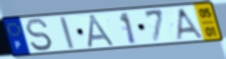1: (118, 11, 139, 45)
7: (144, 8, 166, 44)
A: (86, 14, 118, 49), (175, 7, 206, 41)
I: (58, 16, 76, 50)
S: (24, 18, 55, 53)
